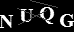G: (59, 13, 74, 27)
N: (1, 14, 13, 29)
Q: (39, 6, 55, 24)
U: (18, 8, 34, 22)
